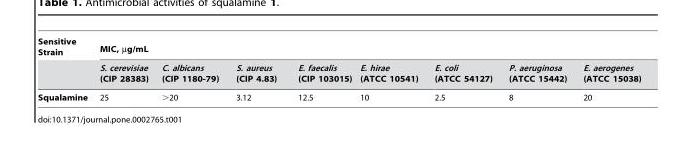table: (37, 36, 640, 101)
table column: (499, 36, 574, 101), (425, 36, 499, 101), (154, 36, 226, 101), (355, 36, 425, 101), (286, 36, 355, 101), (574, 36, 640, 101), (92, 36, 154, 101), (226, 36, 286, 101), (37, 36, 92, 101)
table column header: (37, 36, 640, 87)
table row: (37, 59, 640, 87), (37, 36, 640, 59), (37, 87, 640, 101)
table spanning cell: (92, 36, 640, 59), (37, 36, 92, 87)
